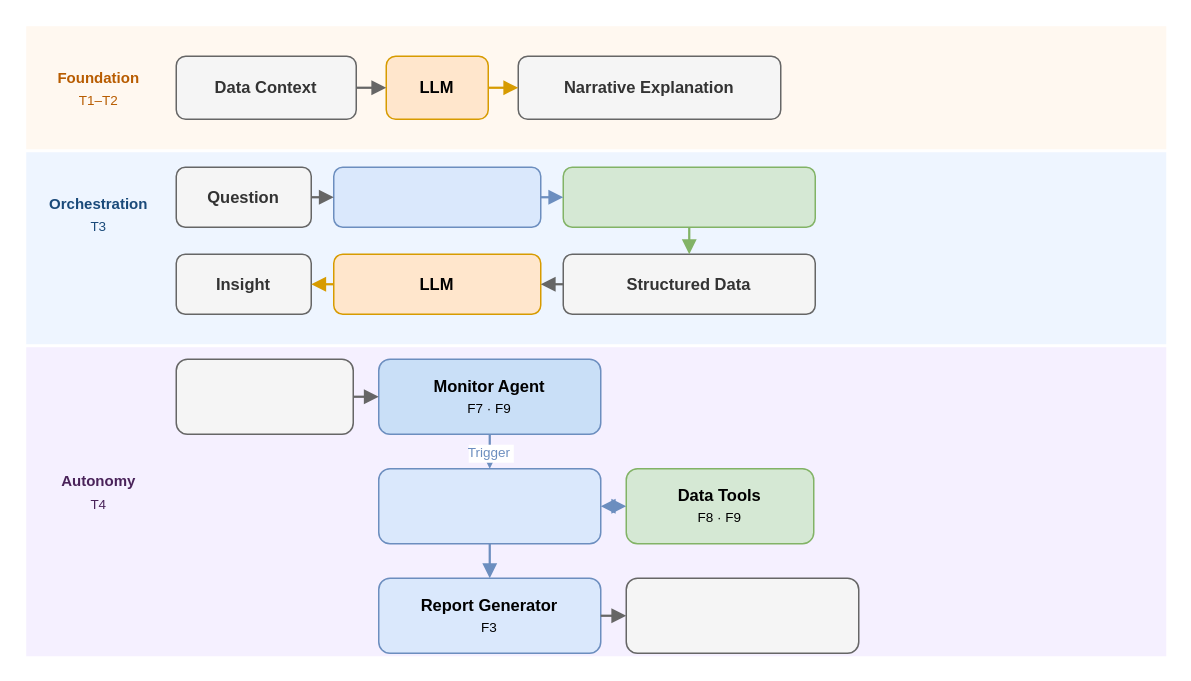
Image size: 1191x681. Some labels were removed from this diagram. The centre of each missing label's shape, as x and y in pixels:
"Alert / Dashboard" belongs at pixel 742 615.
"Analyst Agent F7 · F8 · F9" belongs at pixel 489 505.
"Code Generator F7 · F8" belongs at pixel 436 196.
"Data Stream F9" belongs at pixel 264 396.
"SQL / Python Executor F8 · F9" belongs at pixel 688 196.
